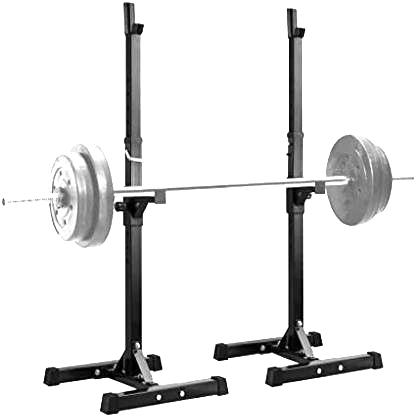Barbell: (0, 192, 11, 213)
